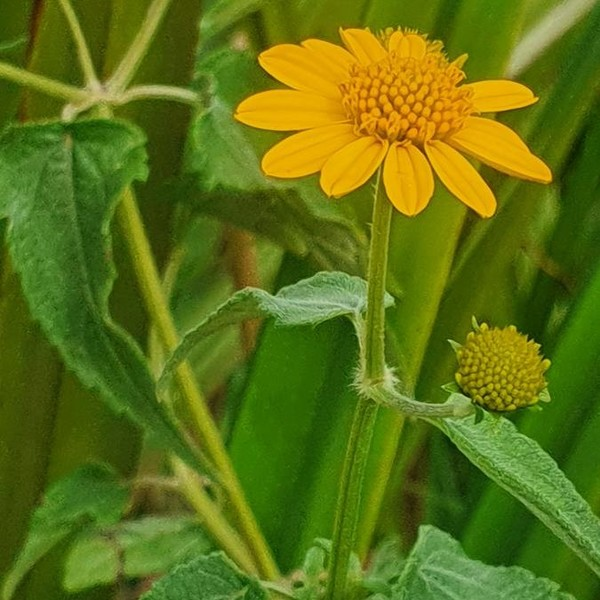obstacle: (213, 28, 562, 567)
